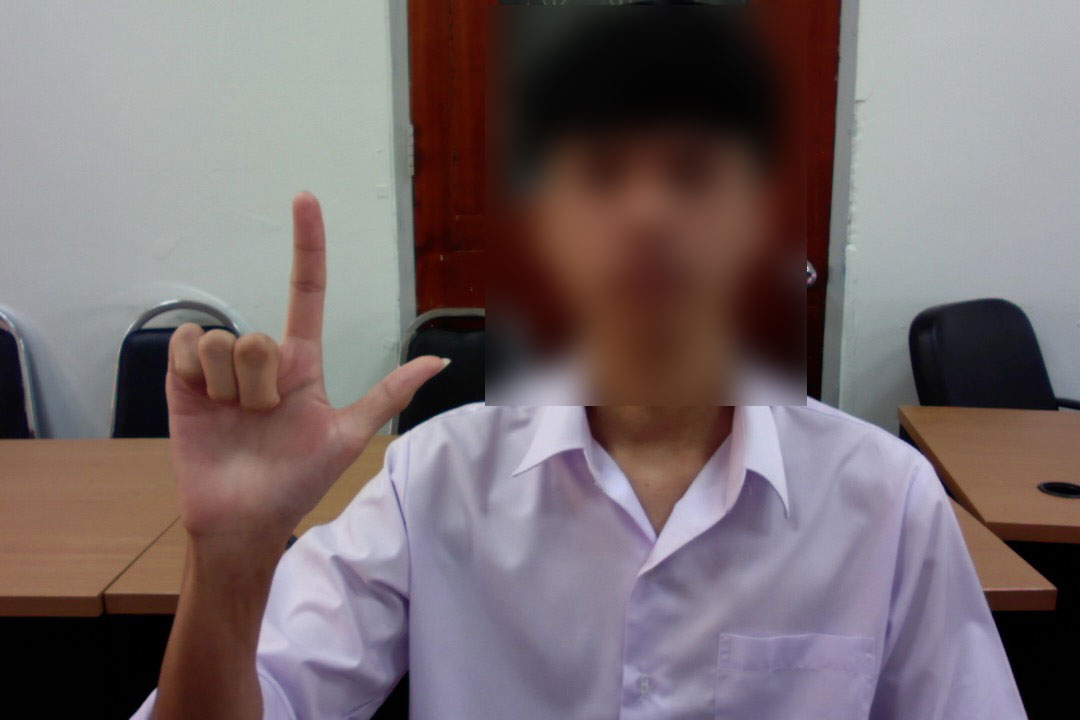lor: (155, 173, 461, 582)
